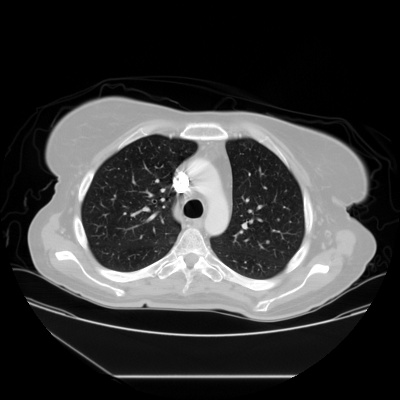PN: (265, 240, 269, 244)
